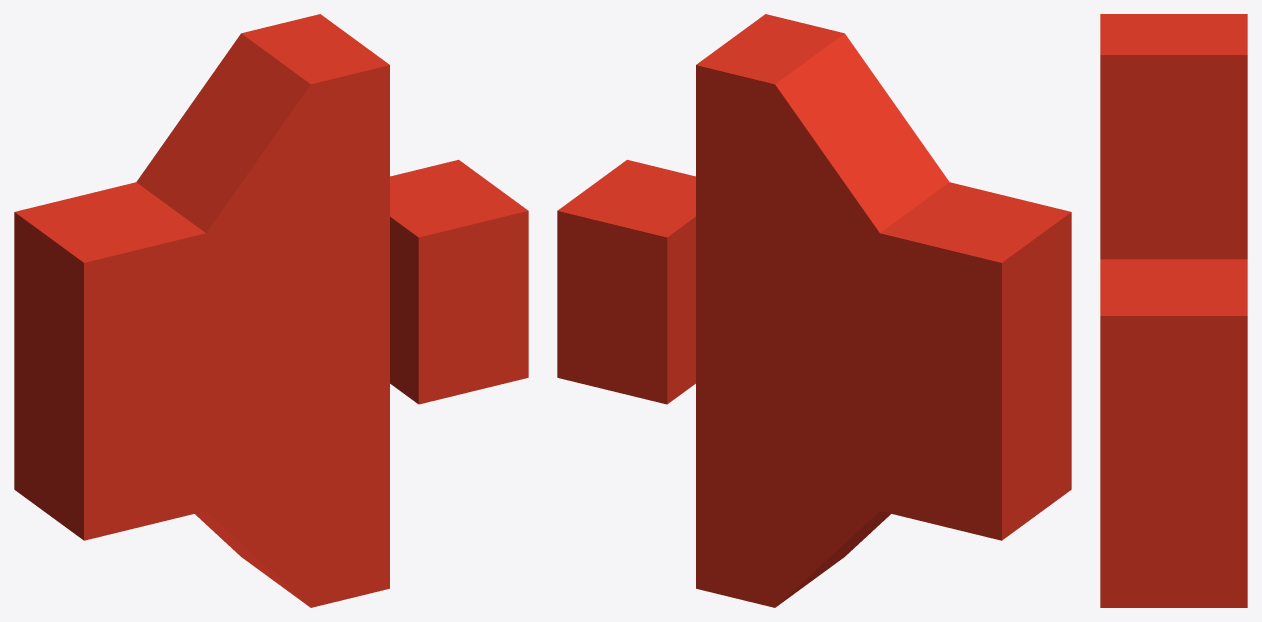
Rendered from Icon_Volume_02.fbx.
3 views of the same model, side by side, from view 1: azimuth 30°, elevation 25°; view 2: azimuth 150°, elevation 25°; view 3: azimuth 270°, elevation 25° (orthographic). The views are drawn at different scales.
Visible parts, largest first — view 1: Icon_Volume_02; view 2: Icon_Volume_02; view 3: Icon_Volume_02.
Boxes of the visible parts, x1=… form: Icon_Volume_02: x1=14, y1=14, x2=528, y2=607; Icon_Volume_02: x1=557, y1=14, x2=1071, y2=607; Icon_Volume_02: x1=1100, y1=14, x2=1247, y2=607.
Size of the model in its own units: 44.38 by 49.96 by 12.06.
